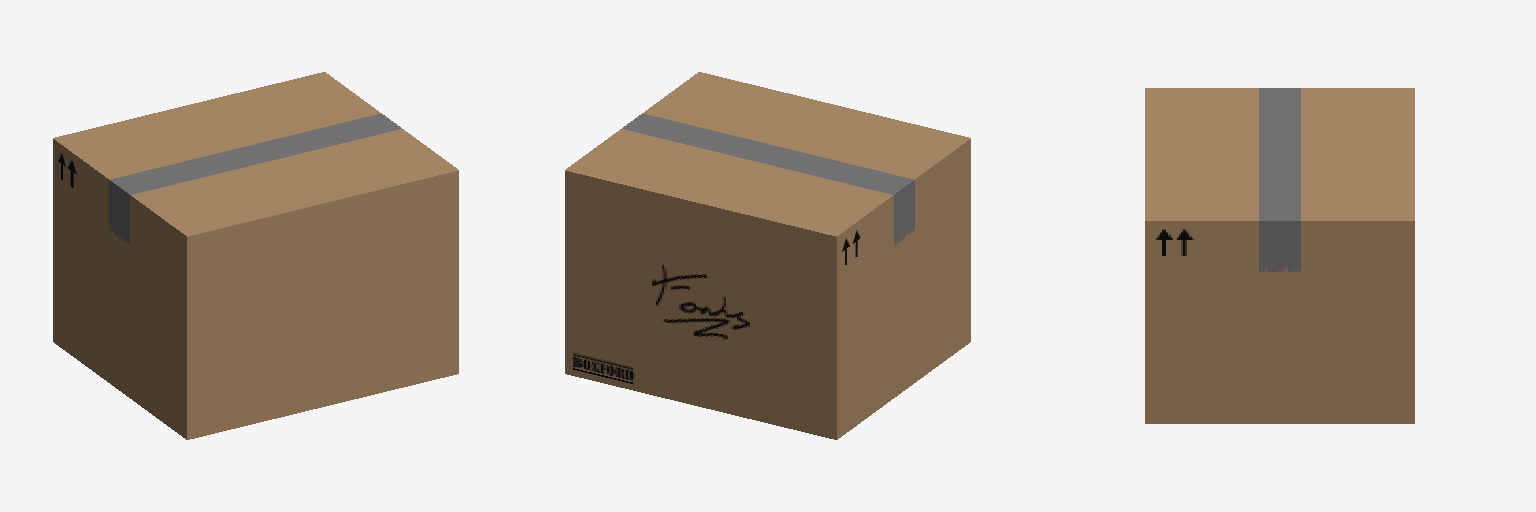
3 views of the same model, side by side, from view 1: azimuth 30°, elevation 25°; view 2: azimuth 150°, elevation 25°; view 3: azimuth 270°, elevation 25° (orthographic).
Visible parts, largest first — view 1: Cube; view 2: Cube; view 3: Cube.
Part boxes in pixels (x1,y1,x2,y2): Cube: (53, 72, 458, 439); Cube: (565, 72, 970, 439); Cube: (1145, 88, 1414, 423).
Size of the model in its own units: 1.75 by 1.25 by 1.5.
1 materials, 1 textured.